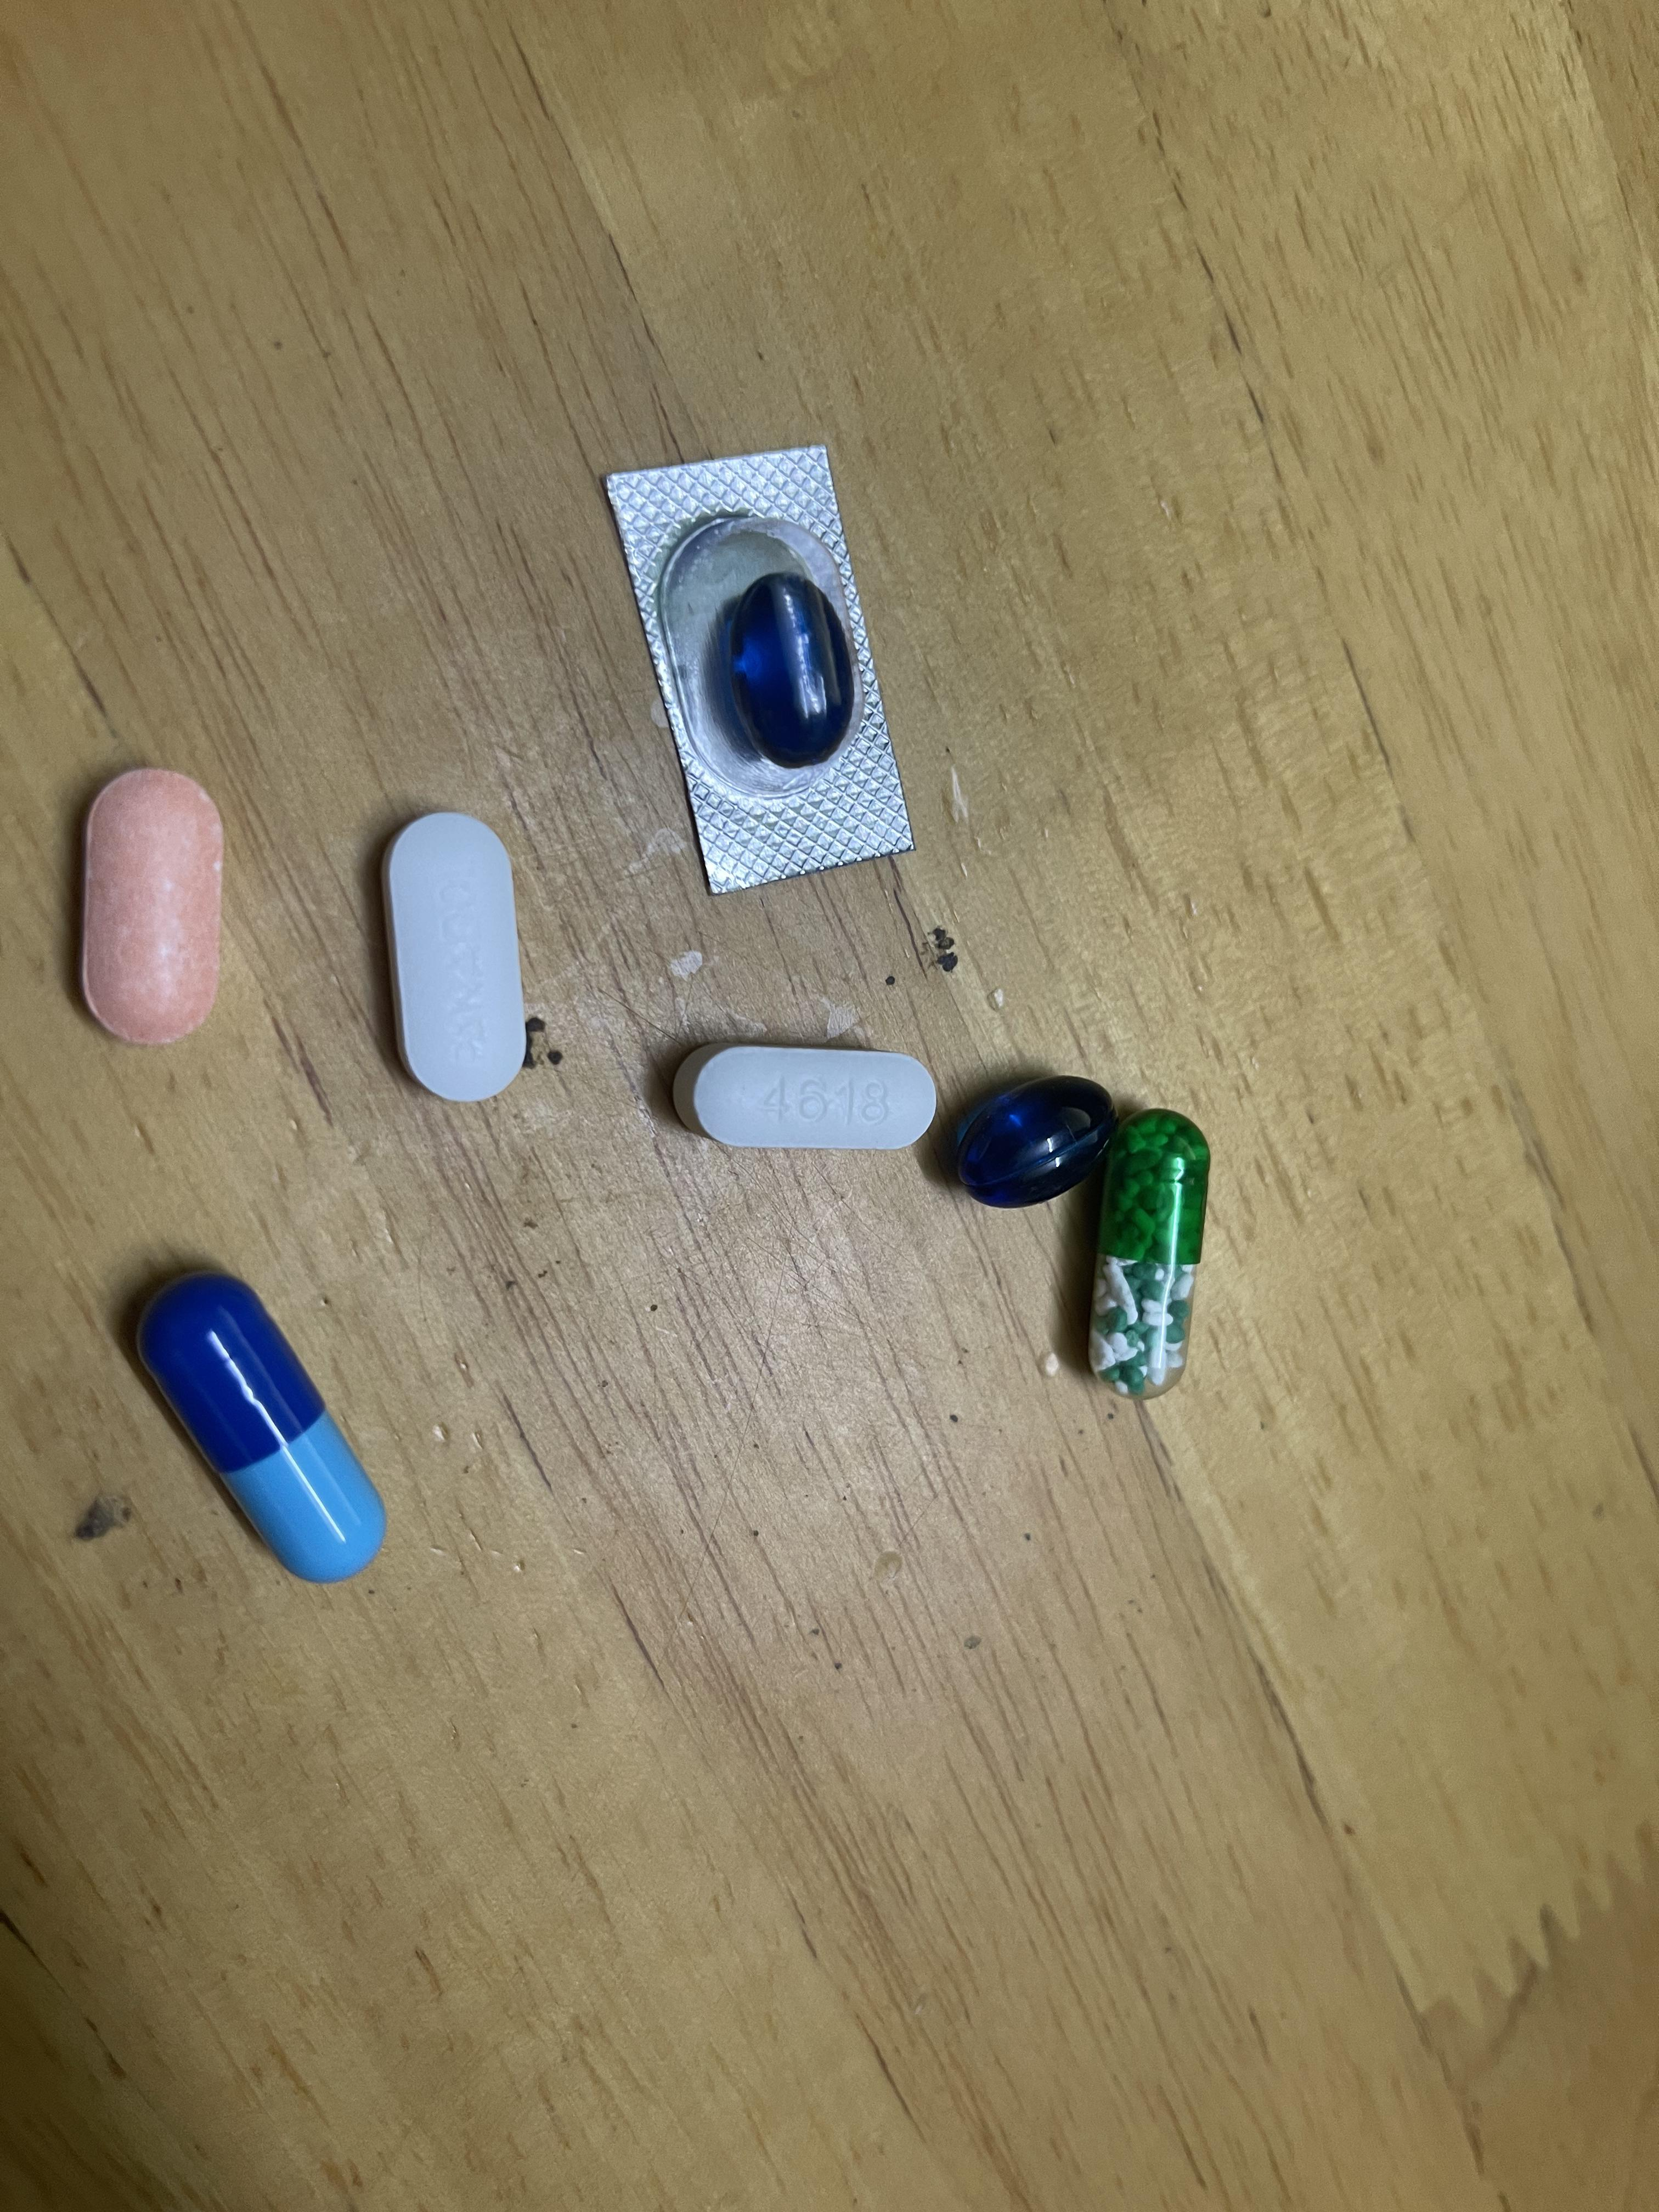Lincomyxin_500mg: (720, 575, 849, 770), (950, 1078, 1115, 1204)
Loratadine_10mg: (77, 770, 227, 1052)
Paracetamol_350mg: (385, 815, 528, 1094)
Paracetamol_500mg: (688, 1047, 936, 1151)
Paracetamol_650mg: (1093, 1111, 1204, 1390)
pill: (143, 1282, 383, 1580)
